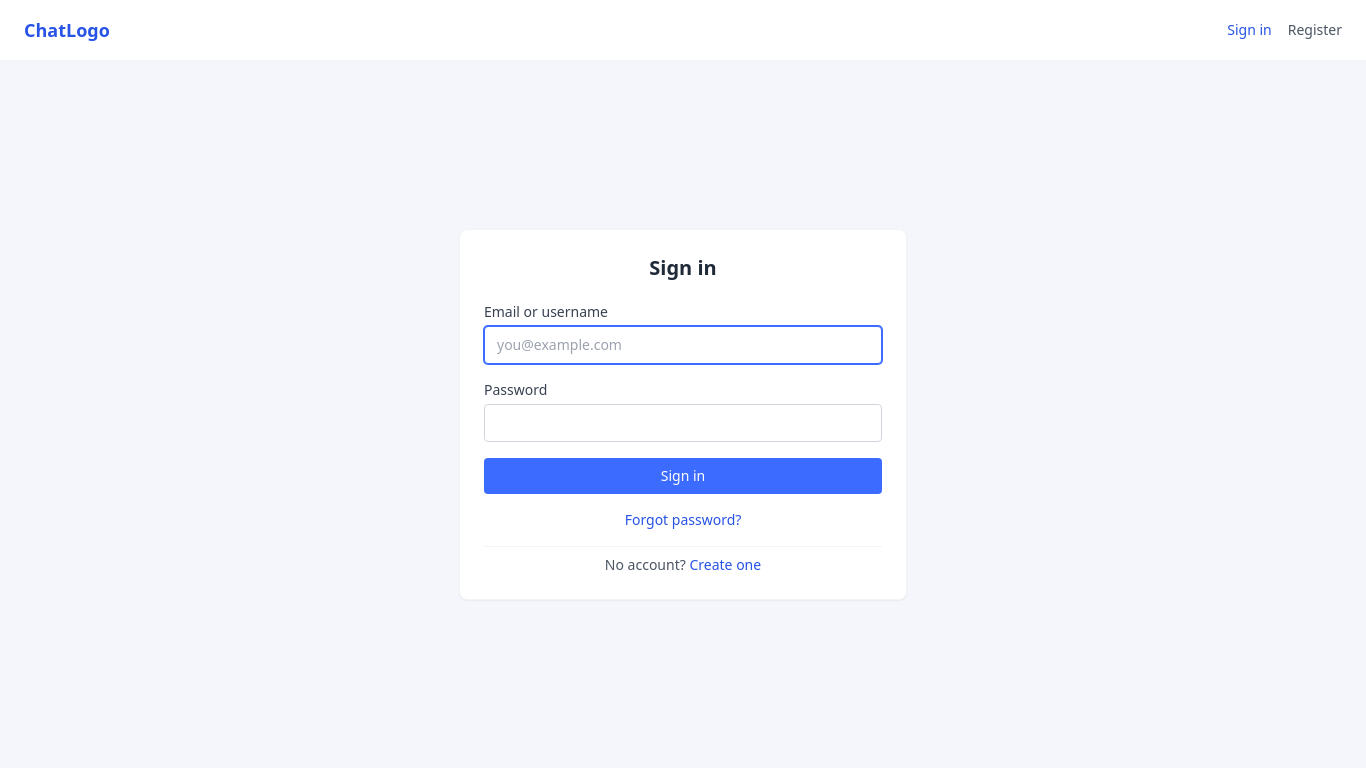
Test: LoginPage › shows backend error message on login failure
Type "alice" into the field with placeholder "you@example.com".
click(683, 345); type("alice")  # box [484,326,882,364]
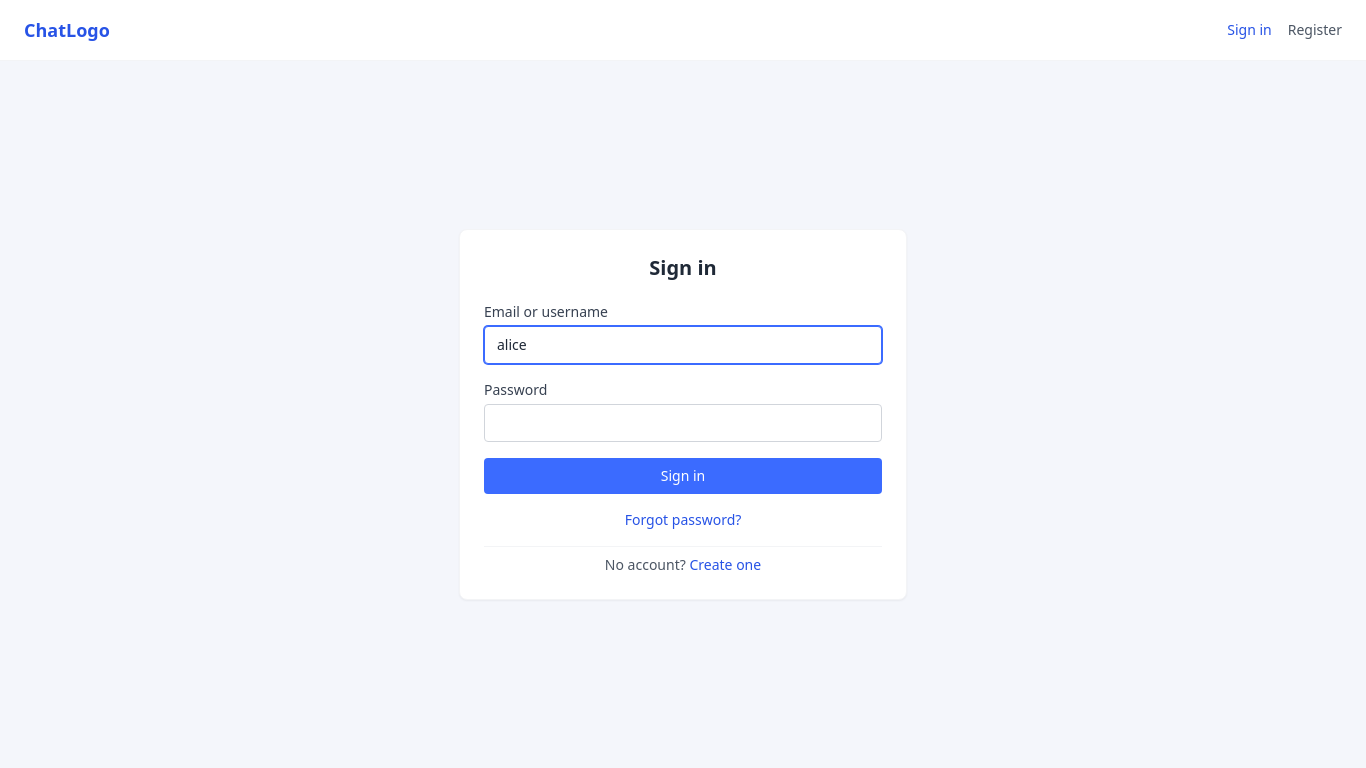
Type "wrong" into the password field.
click(683, 423); type("wrong")  # box [484,404,882,442]
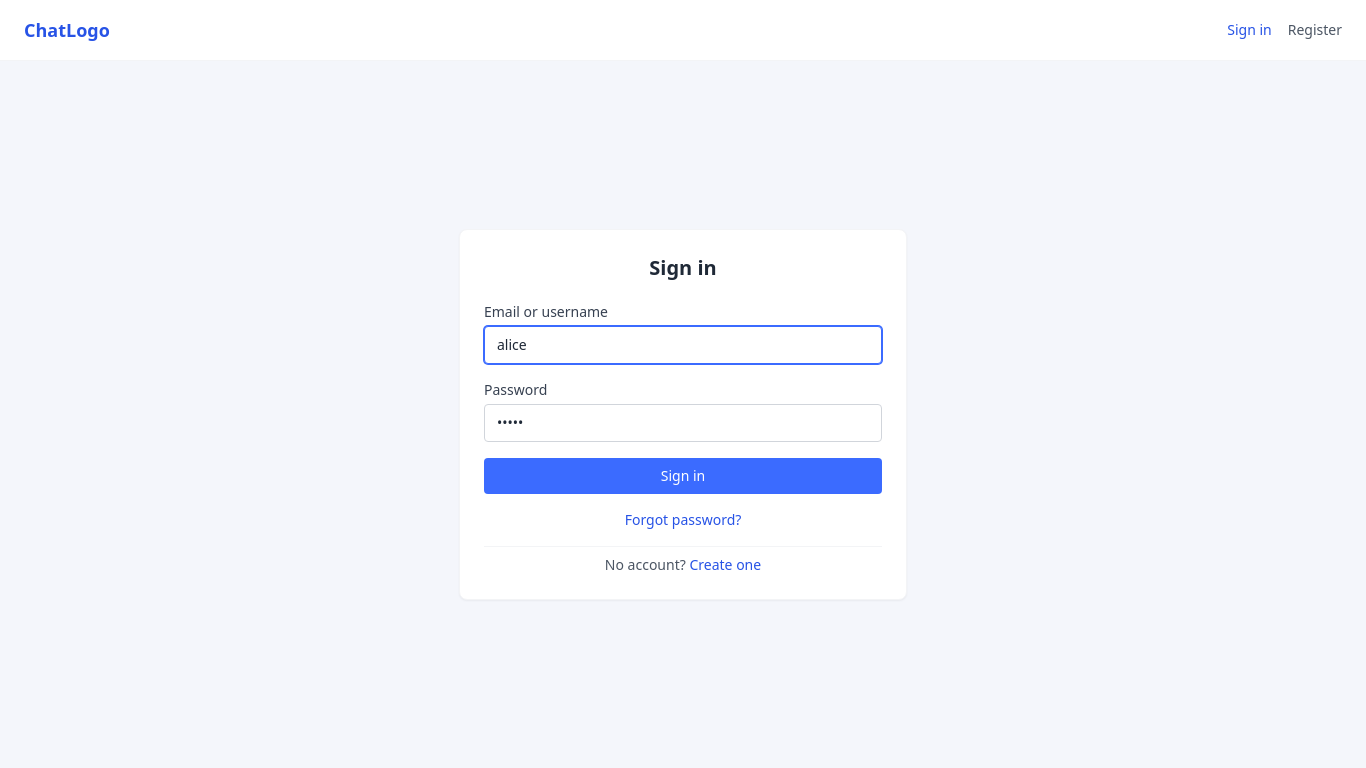
Click the button "Sign in".
click(683, 476)  # box [484,458,882,494]
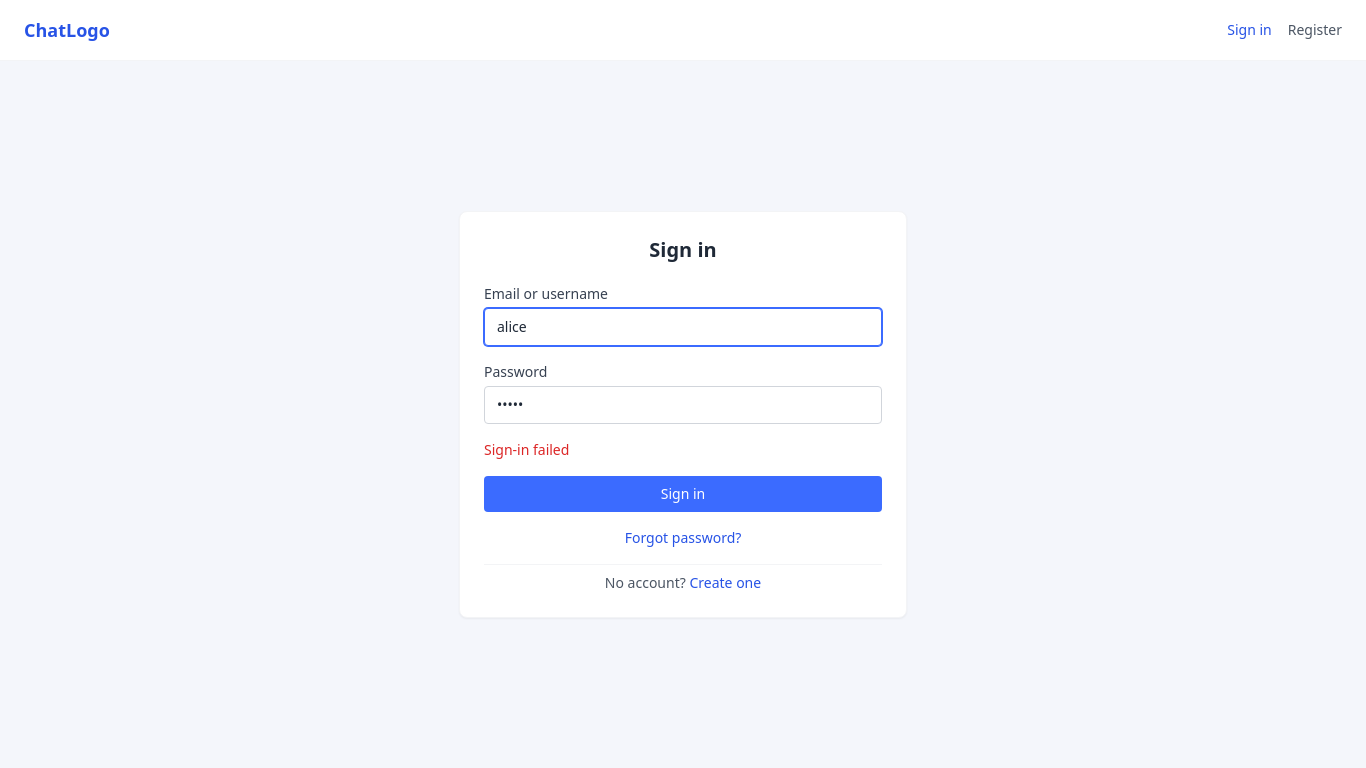
Now the text "Sign-in failed" is shown, box [484,440,569,459]
